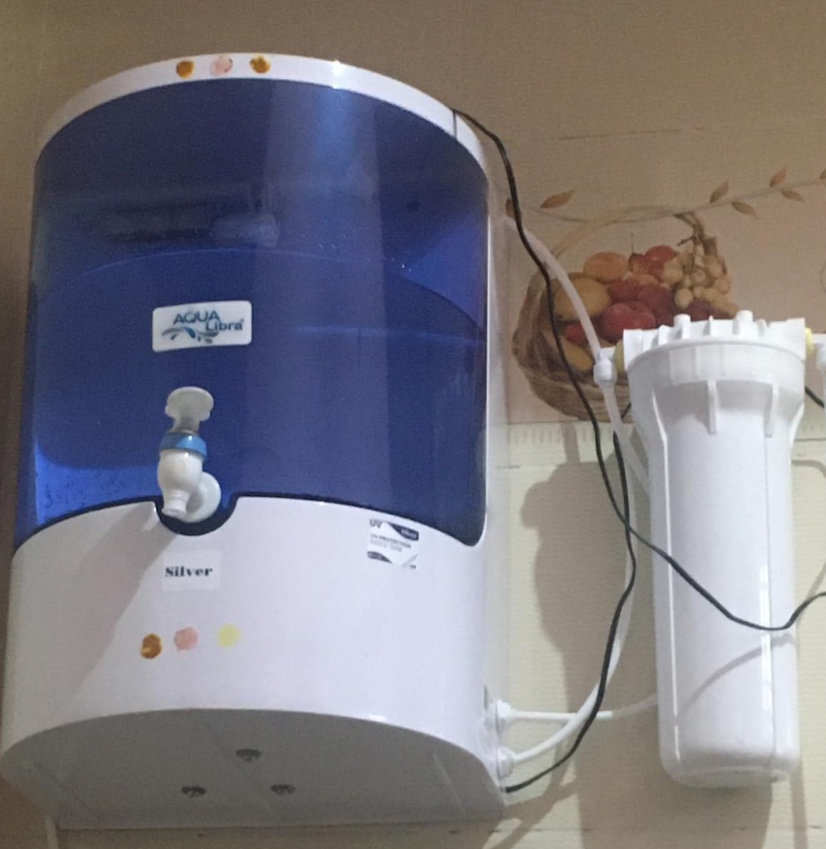water purifier: (1, 38, 524, 845)
